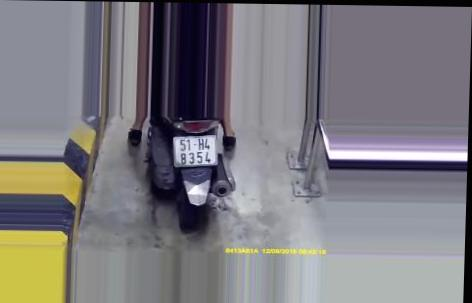License_Plate: (168, 133, 219, 170)
